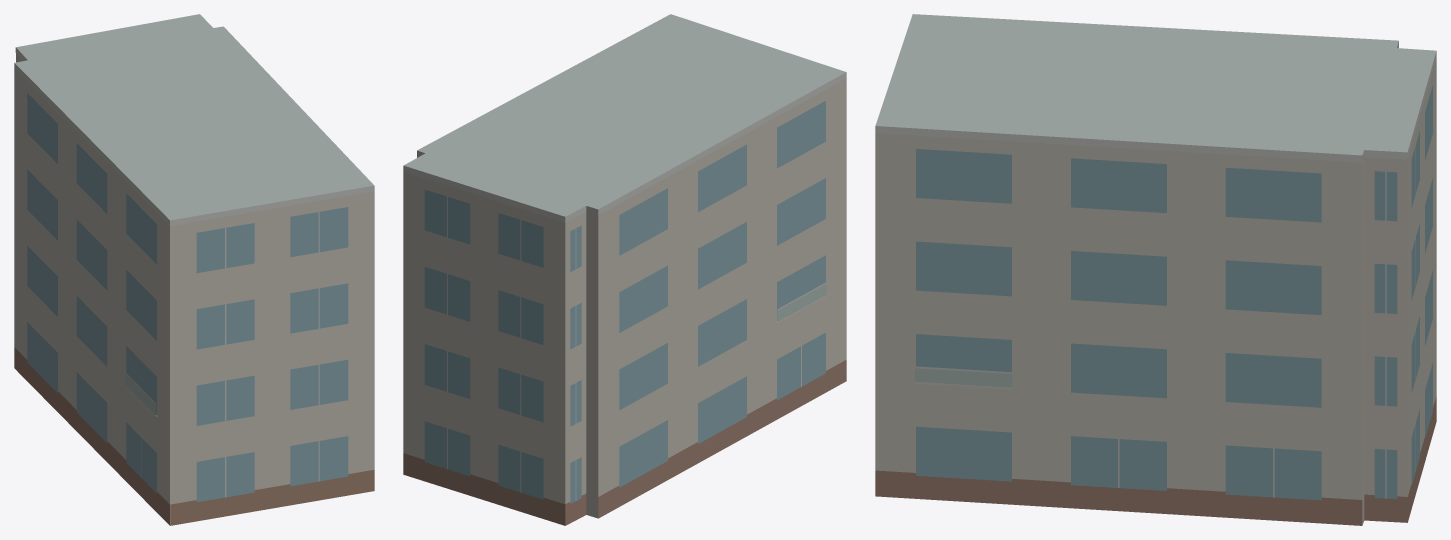
Rendered from survey-upis-33001727.glb.
The picture shows the model from 3 angles, left to right: view 1: azimuth 30°, elevation 25°; view 2: azimuth 150°, elevation 25°; view 3: azimuth 270°, elevation 25°; orthographic projection. The views are drawn at different scales.
Visible parts, largest first — view 1: survey-upis-33001727.tmp; view 2: survey-upis-33001727.tmp; view 3: survey-upis-33001727.tmp.
Part boxes in pixels (x1,y1,x2,y2): survey-upis-33001727.tmp: (14,14,374,525); survey-upis-33001727.tmp: (403,14,846,525); survey-upis-33001727.tmp: (875,14,1436,525).
Bounding box in the file's own units: 10.41 × 12.7 × 17.45.
